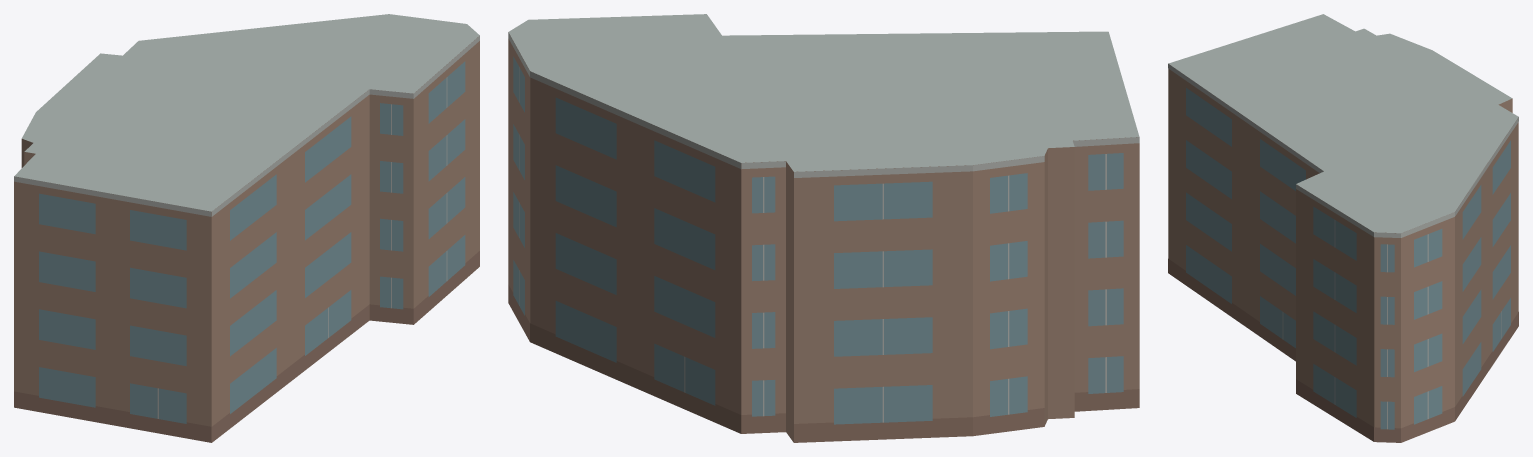
File: survey-upis-32823711.glb
3 renders of one model, left to right at view 1: azimuth 30°, elevation 25°; view 2: azimuth 150°, elevation 25°; view 3: azimuth 270°, elevation 25°, orthographic. The views are drawn at different scales.
Visible parts, largest first — view 1: survey-upis-32823711.tmp; view 2: survey-upis-32823711.tmp; view 3: survey-upis-32823711.tmp.
Part boxes in pixels (box(x1,y1,x2,y2)): survey-upis-32823711.tmp: box(14, 14, 479, 442); survey-upis-32823711.tmp: box(508, 14, 1139, 442); survey-upis-32823711.tmp: box(1168, 14, 1518, 442).
Size of the model in its own units: 23.79 by 10.6 by 16.07.
